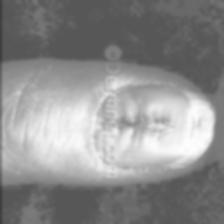Toxin: (119, 112, 175, 148)
